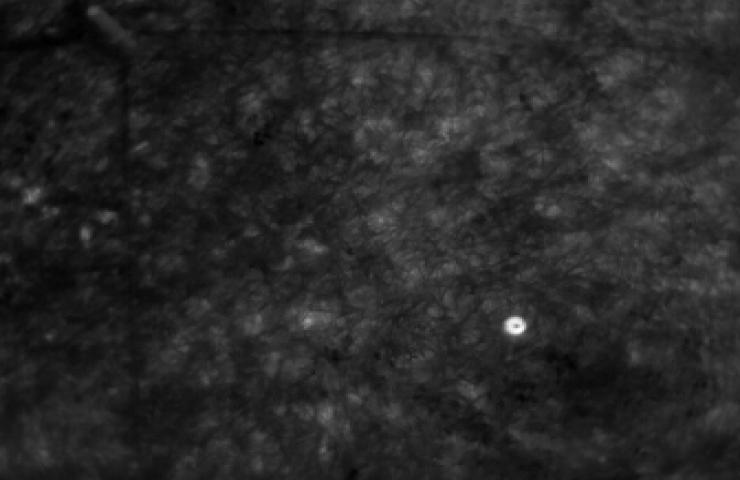landmines: (502, 314, 531, 339)
